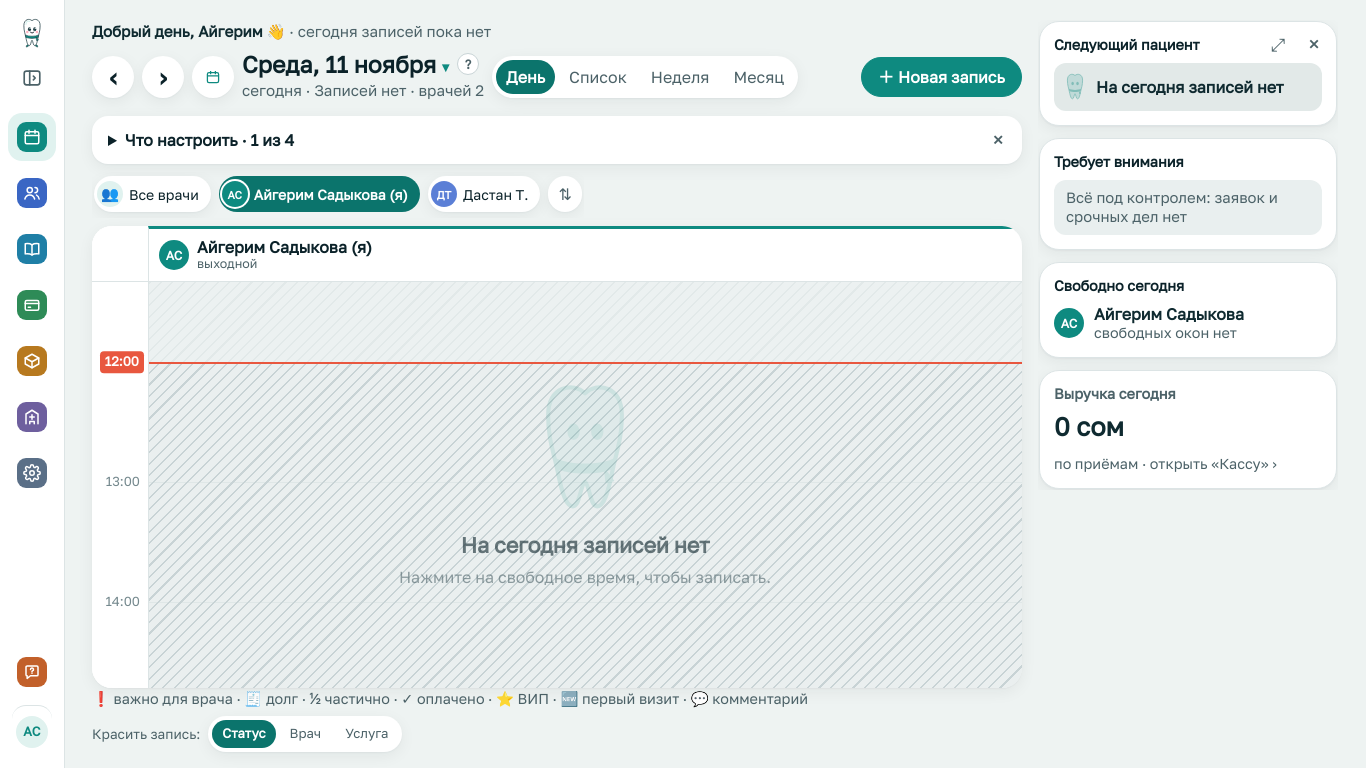
Test case: кто уже прошёл тур — не видит его; «Помощь → Пройти тур ещё раз» показывает снова, отметку повторно не шлёт
The image size is (1366, 768).
(page scrolled)
Expected: the navigation bar named "Разделы" is shown, [8,113,56,497]
Step 1. Click the button named "Помощь" → click(32, 672), box [12,648,52,696]
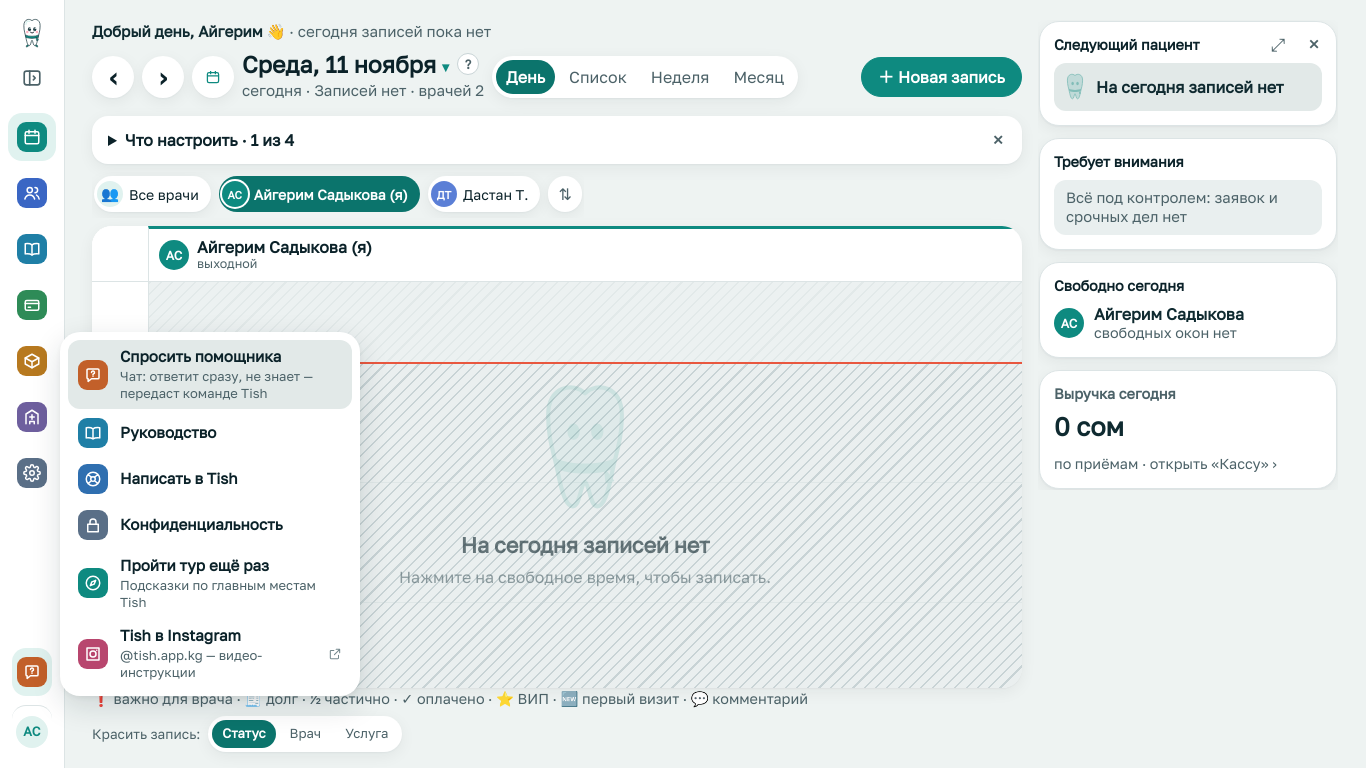
Step 2. Click the button "Пройти тур ещё раз Подсказки по главным местам Tish" → click(210, 583), box [68,549,352,617]
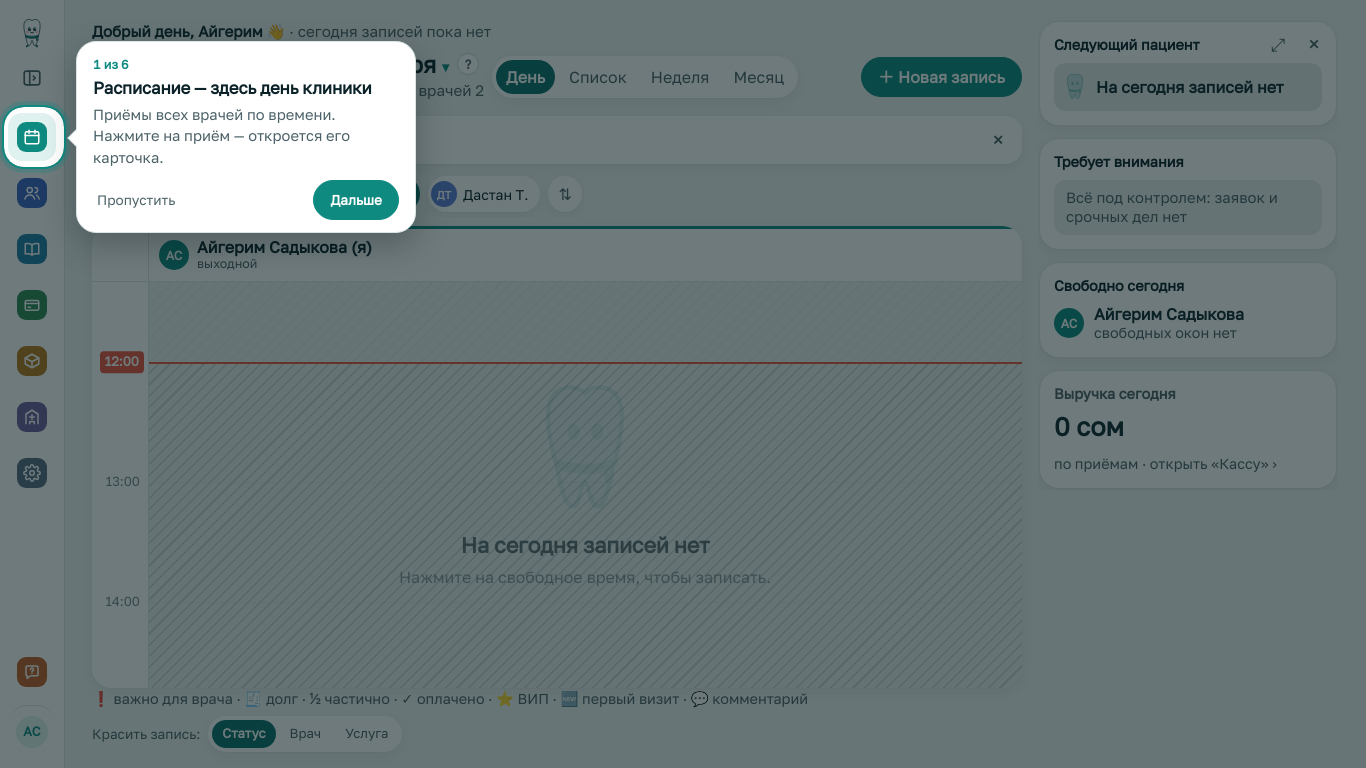
Now the heading reads "Расписание — здесь день клиники", box [93,78,372,98]
Step 3. Click the button "Пропустить" → click(136, 200), box [93,184,179,216]
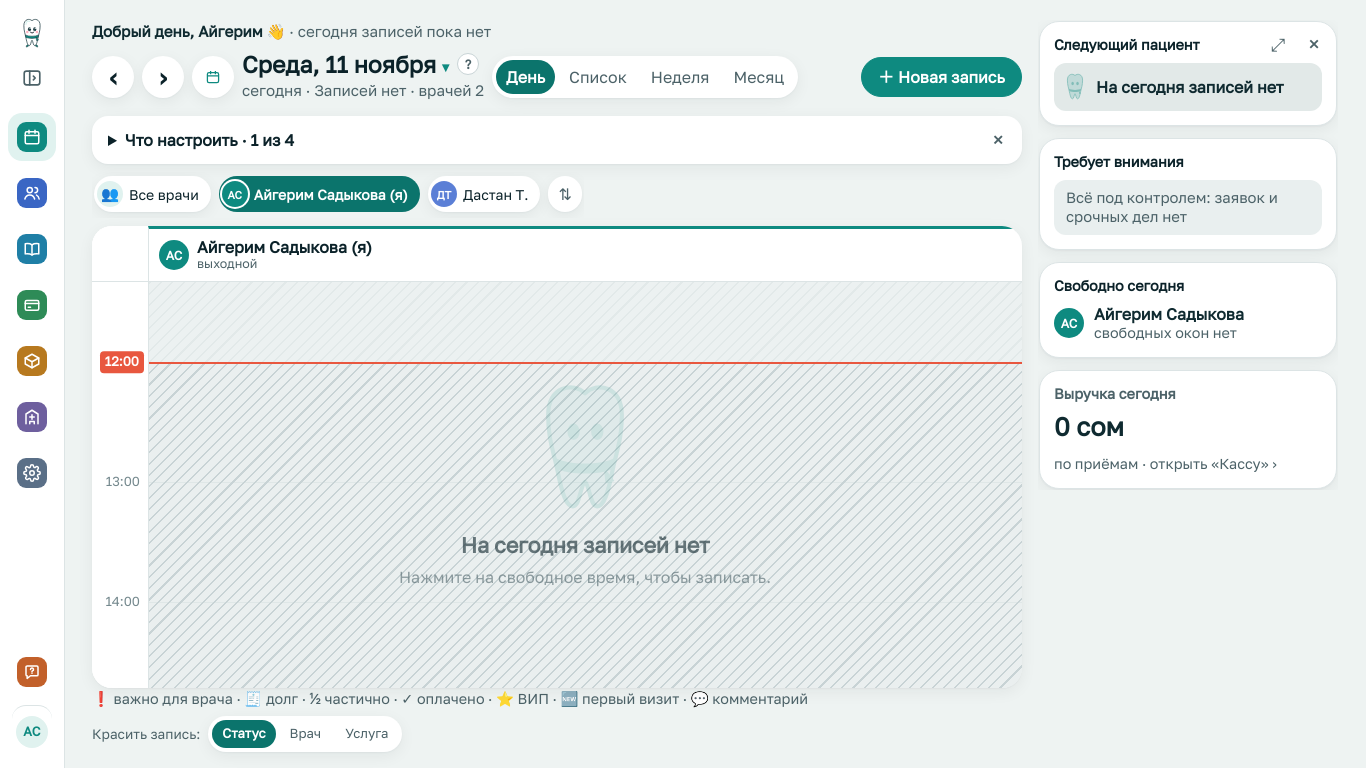
Now the dialog is gone
